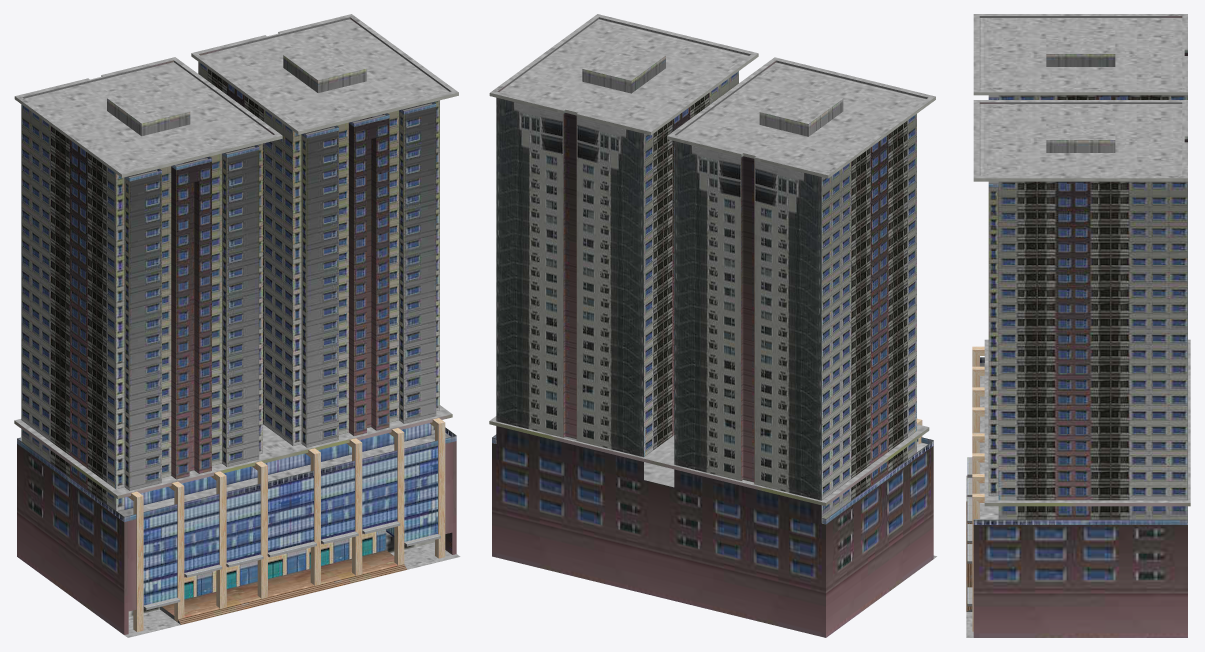
The picture shows the model from 3 angles, left to right: view 1: azimuth 30°, elevation 25°; view 2: azimuth 150°, elevation 25°; view 3: azimuth 270°, elevation 25°; orthographic projection.
Parts seen in each view (by area): view 1: 5b5975fbd8a76647605c5e9a.001; view 2: 5b5975fbd8a76647605c5e9a.001; view 3: 5b5975fbd8a76647605c5e9a.001.
Part boxes in pixels (bbox=[...]): 5b5975fbd8a76647605c5e9a.001: bbox=[14, 14, 460, 637]; 5b5975fbd8a76647605c5e9a.001: bbox=[489, 14, 936, 637]; 5b5975fbd8a76647605c5e9a.001: bbox=[966, 14, 1190, 637].
Bounding box in the file's own units: 78 × 104 × 45.07.
1 material, 1 textured.
